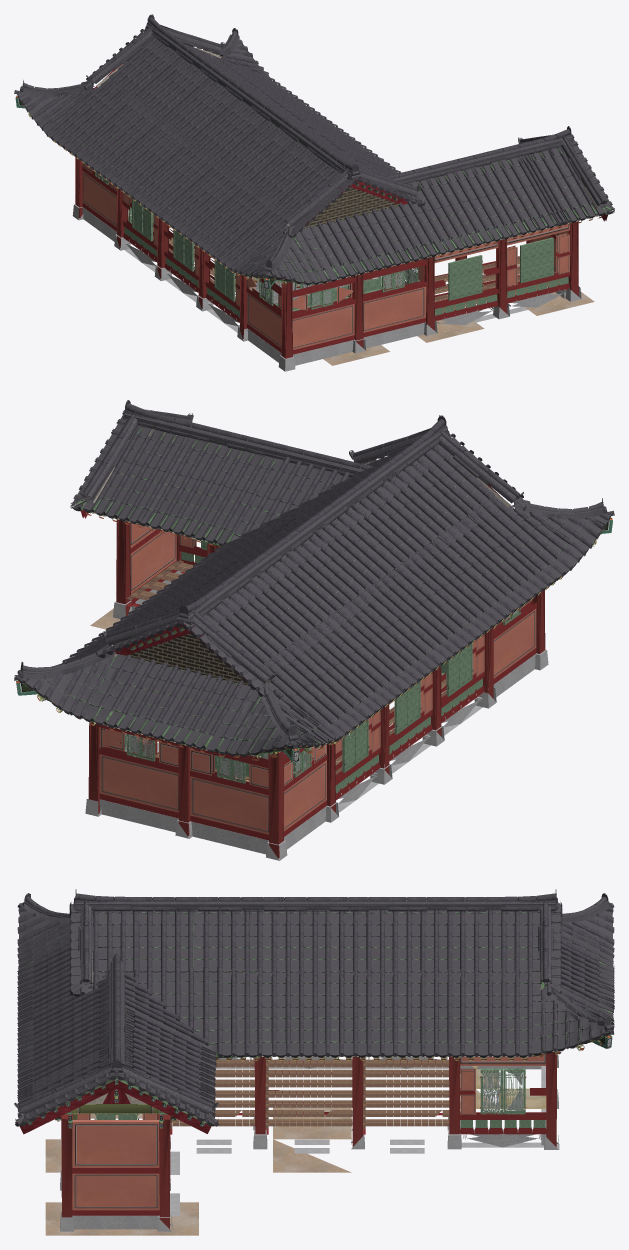
File: bukgun.glb
The picture shows the model from 3 angles, top to bottom: view 1: azimuth 30°, elevation 25°; view 2: azimuth 150°, elevation 25°; view 3: azimuth 270°, elevation 25°; orthographic projection. The views are drawn at different scales.
Visible parts, largest first — view 1: SM_Bokgunyeong, SM_Bokgunyeong_MI_R_Roof1_0.001, SM_Bokgunyeong_MI_R_Roof1_0.002, SM_Bokgunyeong_MI_R_Roof1_0.005, SM_Bokgunyeong_MI_R_Roof1_0.003, SM_Bokgunyeong_MI_KoreanWood_5.001_0.001, SM_Bokgunyeong_MI_R_Roof1_0.004, SM_Bokgunyeong_MI_KoreanWood_5.001_0.002; view 2: SM_Bokgunyeong, SM_Bokgunyeong_MI_R_Roof1_0.005, SM_Bokgunyeong_MI_R_Roof1_0.002, SM_Bokgunyeong_MI_R_Roof1_0.004, SM_Bokgunyeong_MI_R_Roof1_0.003, SM_Bokgunyeong_MI_R_Roof1_0.001, SM_Bokgunyeong_MI_KoreanWood_5.001_0.001; view 3: SM_Bokgunyeong, SM_Bokgunyeong_MI_R_Roof1_0.001, SM_Bokgunyeong_MI_R_Roof1_0.002, SM_Bokgunyeong_MI_R_Roof1_0.004, SM_Bokgunyeong_MI_R_Roof1_0.003, SM_Bokgunyeong_MI_R_Roof1_0.005.
Boxes of the visible parts, x1,y1,x2,y2 form: SM_Bokgunyeong: [15, 24, 613, 371]; SM_Bokgunyeong_MI_R_Roof1_0.001: [145, 37, 521, 278]; SM_Bokgunyeong_MI_R_Roof1_0.002: [132, 101, 567, 267]; SM_Bokgunyeong_MI_R_Roof1_0.005: [20, 37, 425, 237]; SM_Bokgunyeong_MI_R_Roof1_0.003: [81, 14, 490, 285]; SM_Bokgunyeong_MI_KoreanWood_5.001_0.001: [95, 172, 568, 317]; SM_Bokgunyeong_MI_R_Roof1_0.004: [14, 28, 614, 214]; SM_Bokgunyeong_MI_KoreanWood_5.001_0.002: [263, 267, 419, 311]; SM_Bokgunyeong: [16, 425, 612, 860]; SM_Bokgunyeong_MI_R_Roof1_0.005: [206, 415, 530, 757]; SM_Bokgunyeong_MI_R_Roof1_0.002: [164, 451, 482, 661]; SM_Bokgunyeong_MI_R_Roof1_0.004: [14, 400, 419, 756]; SM_Bokgunyeong_MI_R_Roof1_0.003: [96, 432, 614, 750]; SM_Bokgunyeong_MI_R_Roof1_0.001: [61, 444, 572, 663]; SM_Bokgunyeong_MI_KoreanWood_5.001_0.001: [126, 541, 520, 793]; SM_Bokgunyeong: [17, 893, 612, 1235]; SM_Bokgunyeong_MI_R_Roof1_0.001: [17, 910, 532, 1073]; SM_Bokgunyeong_MI_R_Roof1_0.002: [17, 910, 330, 1097]; SM_Bokgunyeong_MI_R_Roof1_0.004: [14, 897, 614, 1126]; SM_Bokgunyeong_MI_R_Roof1_0.003: [17, 889, 614, 1044]; SM_Bokgunyeong_MI_R_Roof1_0.005: [69, 889, 614, 996].
Size of the model in its own units: 14.93 by 7.5 by 18.93.
23 materials, 22 textured.
